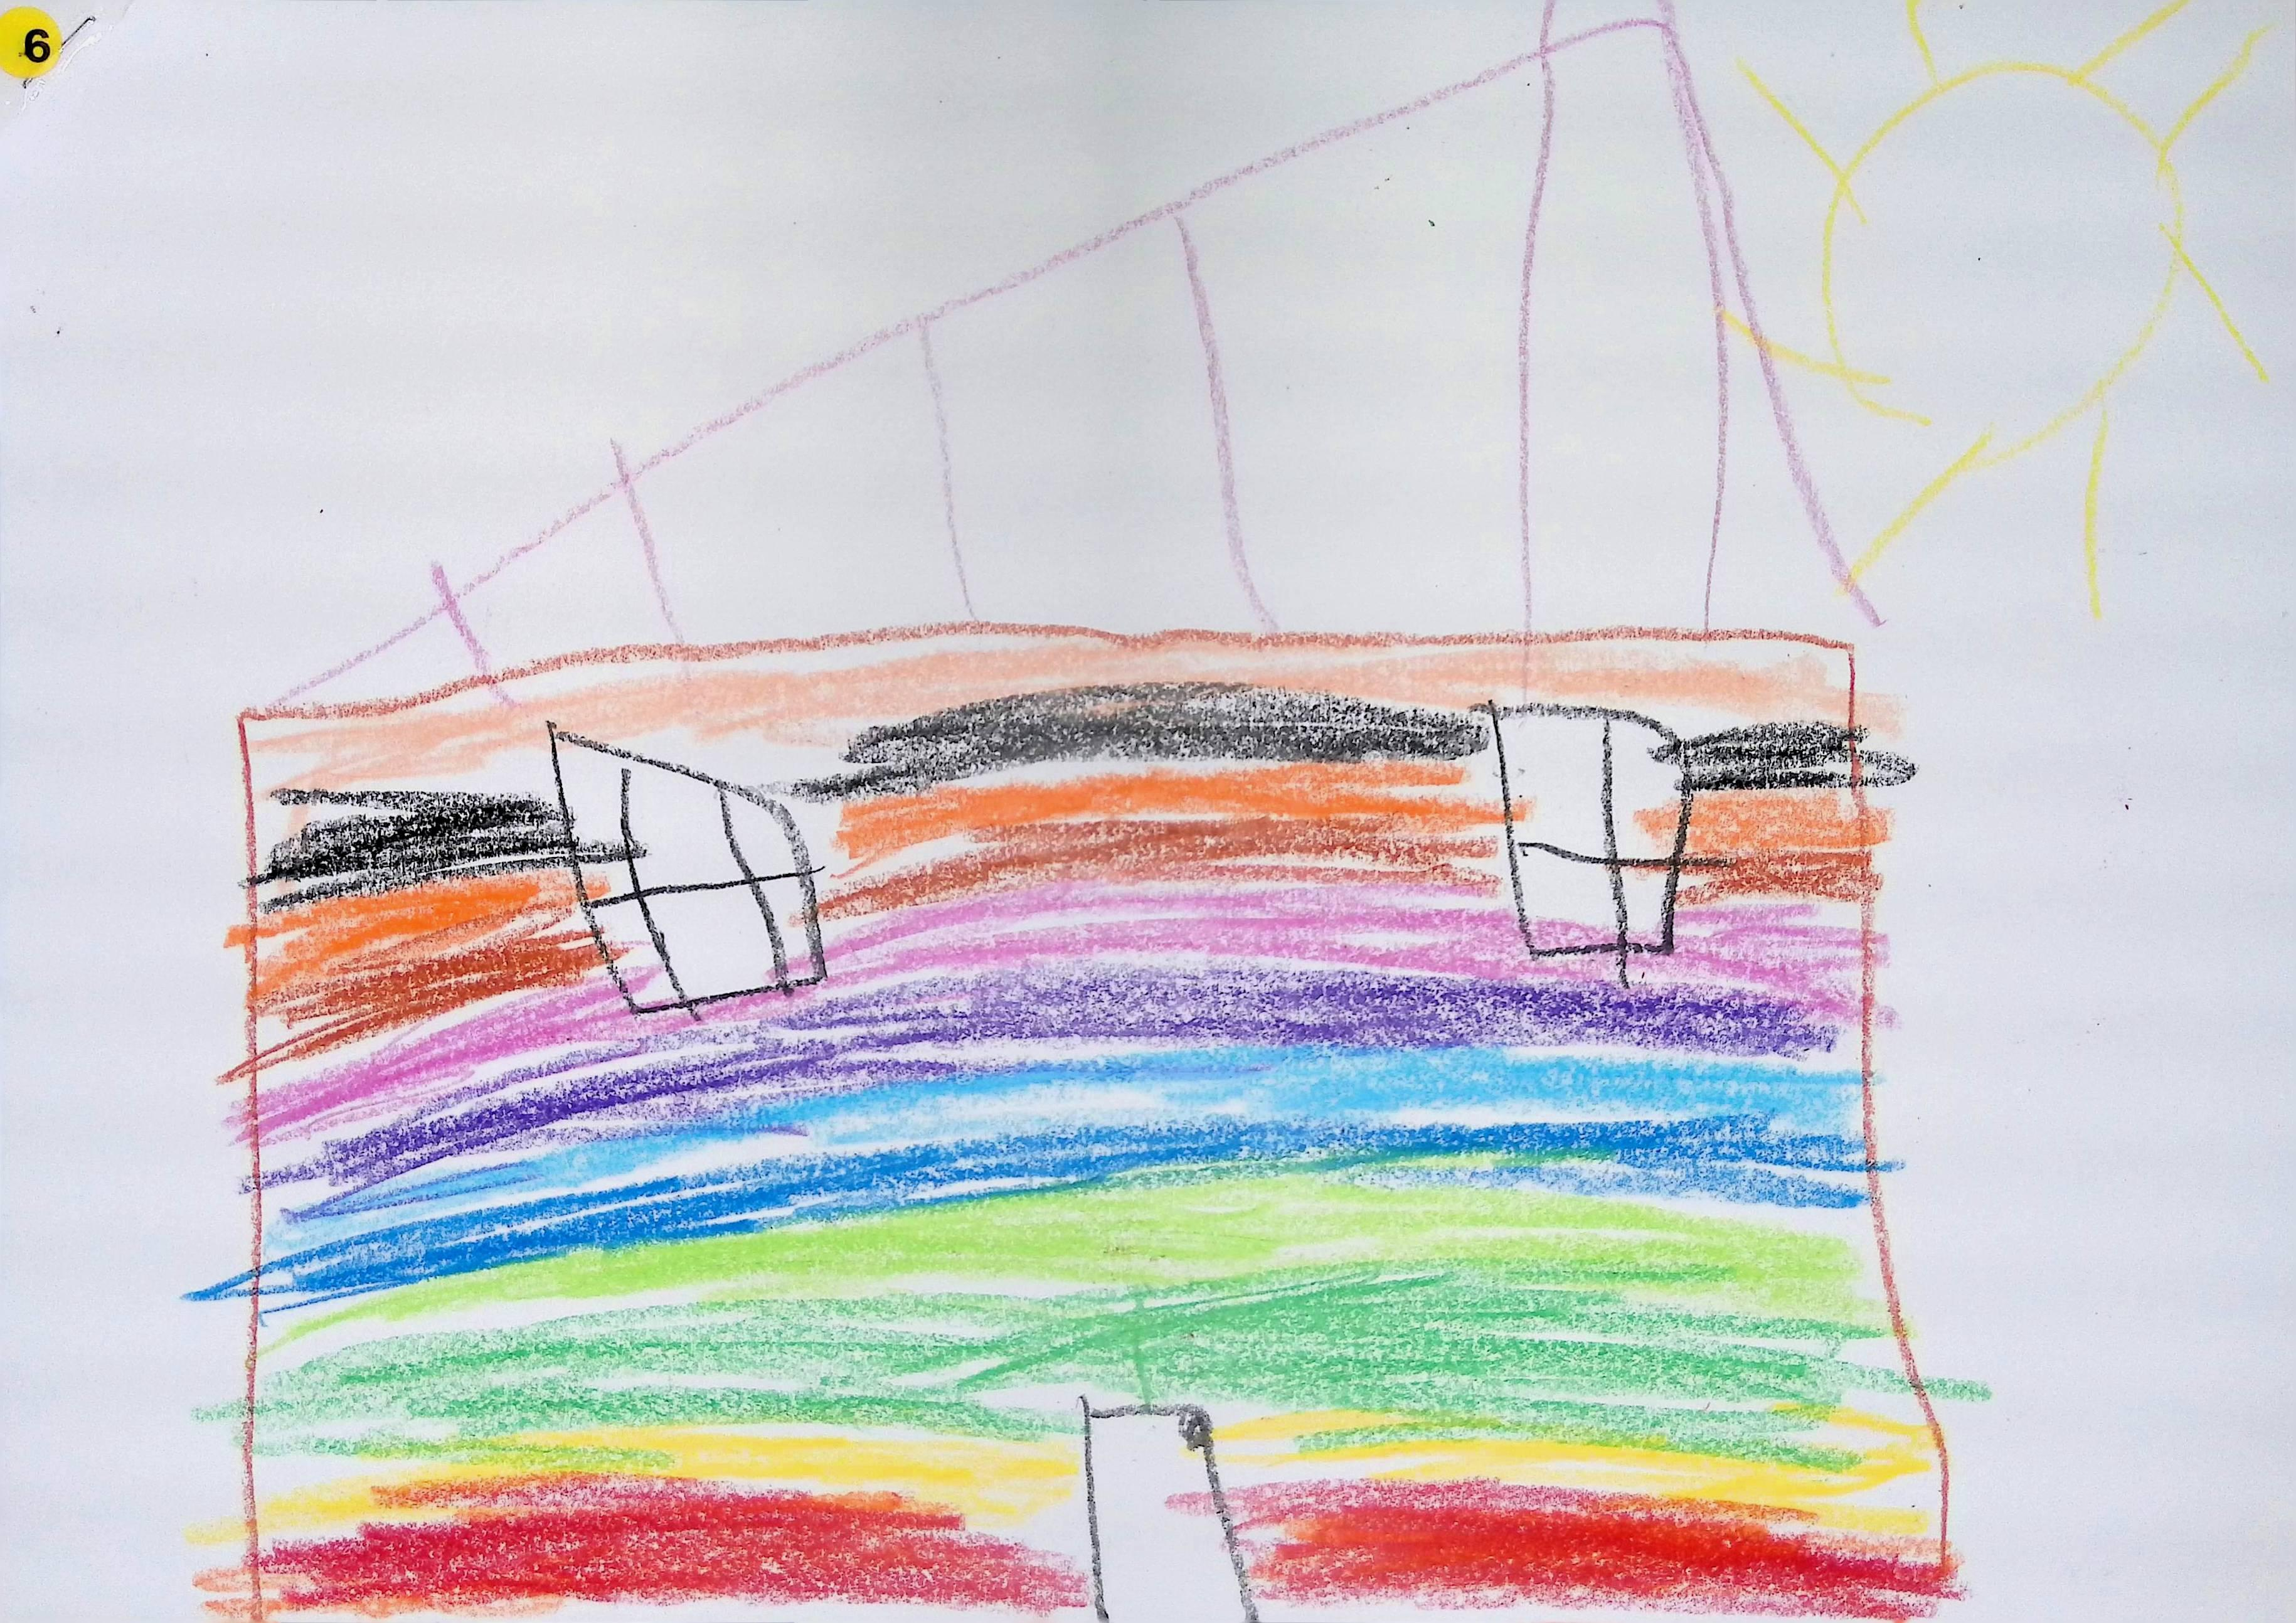door: (1080, 1402, 1260, 1623)
house: (195, 12, 1955, 1619)
roof: (300, 0, 1871, 697)
sun: (1744, 0, 2273, 613)
wall: (239, 683, 1962, 1609)
window: (546, 720, 824, 1012), (1490, 703, 1695, 957)
